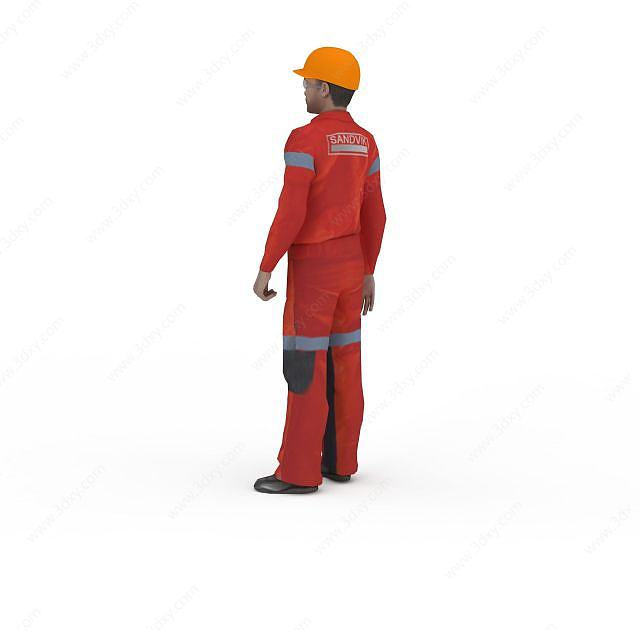safetyhat: (221, 34, 387, 516)
